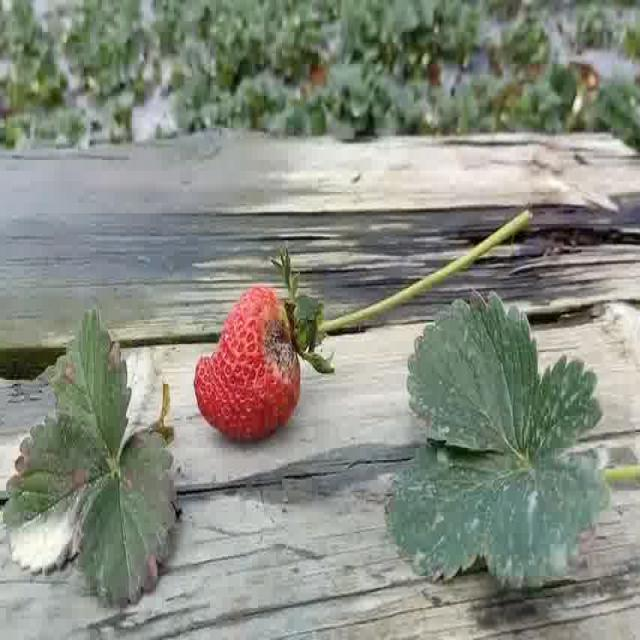Mancha negra Antracnosis: (193, 288, 304, 454)
